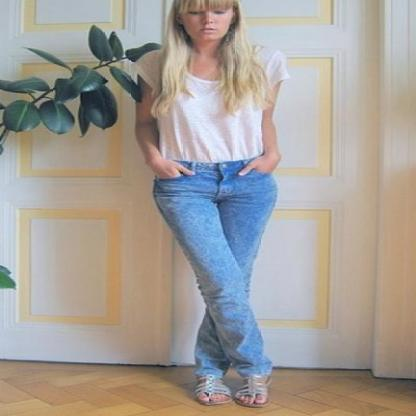pants: (153, 160, 275, 377)
shirt: (137, 43, 291, 166)
shoe: (198, 374, 271, 407)
